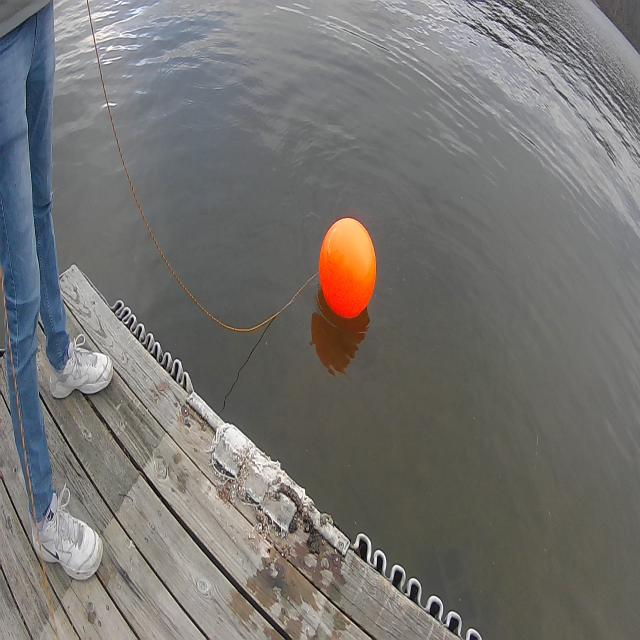Buoy: (314, 203, 380, 327)
